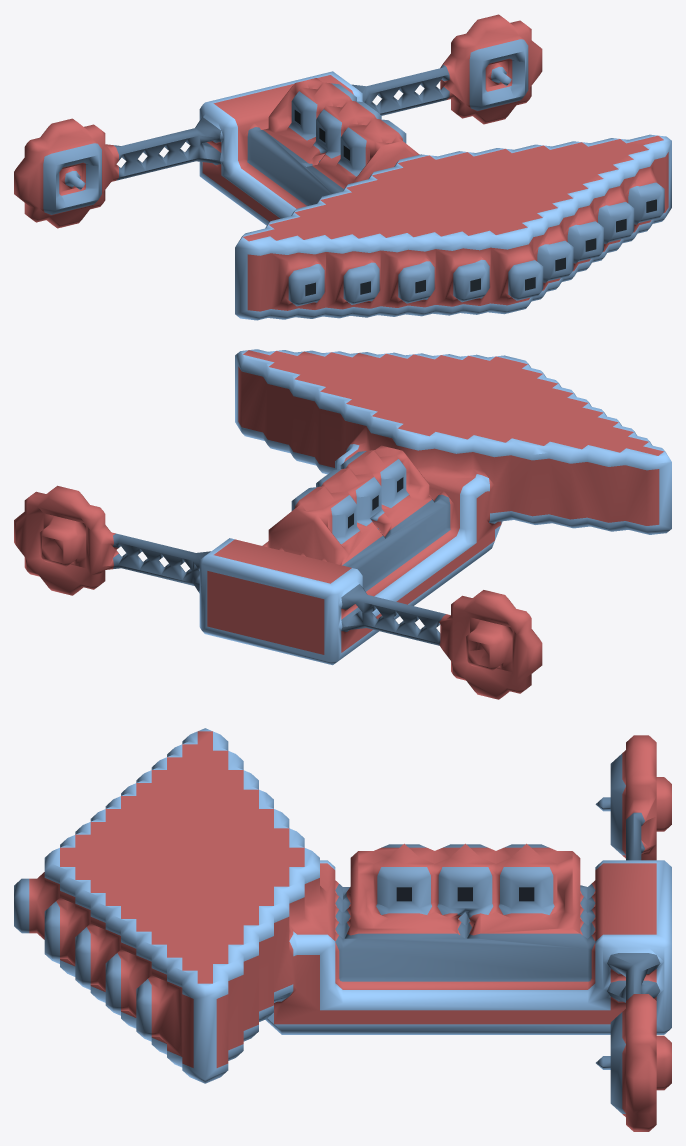
The model's file is usa-5-ohio-class.obj.
3 views of the same model, one above another, from view 1: azimuth 30°, elevation 25°; view 2: azimuth 150°, elevation 25°; view 3: azimuth 270°, elevation 25° (orthographic). The views are drawn at different scales.
Size of the model in its own units: 49 by 11 by 43.
Materials: 1 (1 with a texture image).
